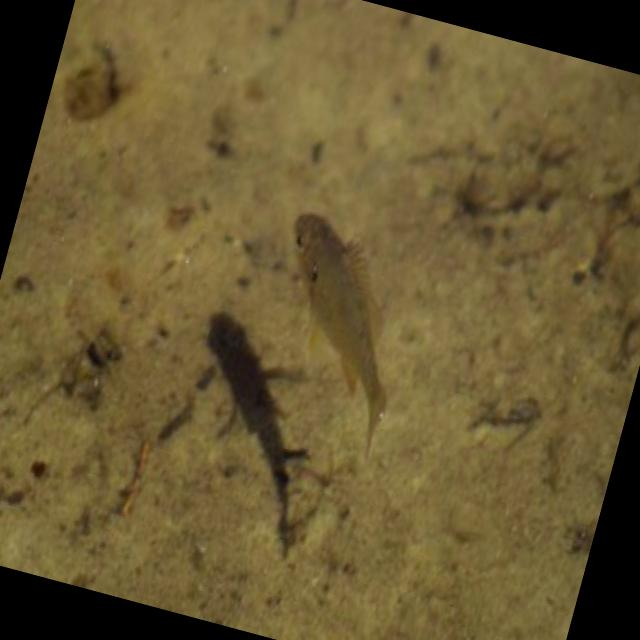Gunes Levregi: (237, 203, 438, 470)
